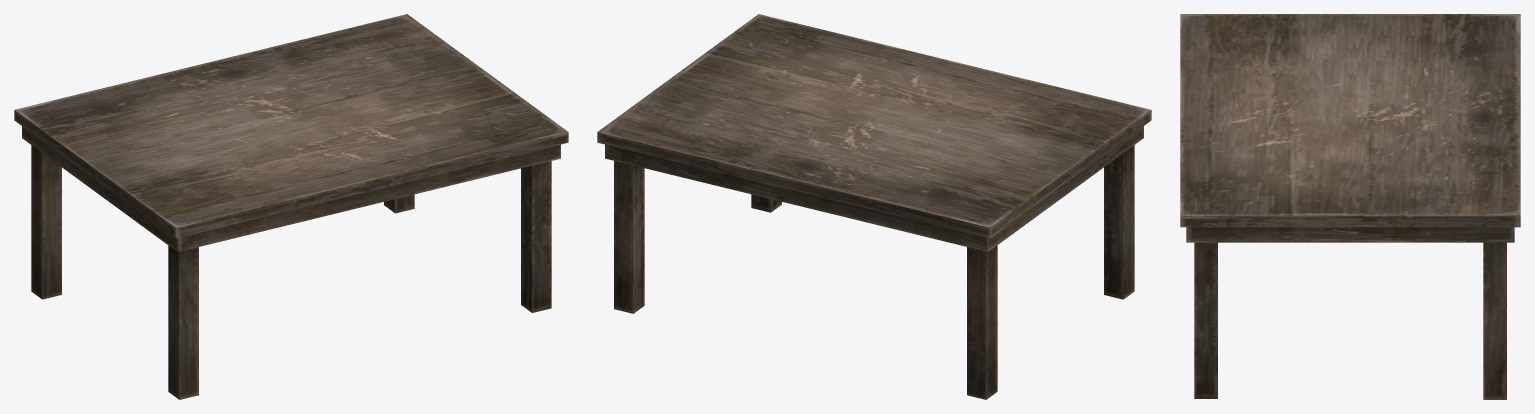
The model's file is Table_2.fbx.
3 views of the same model, side by side, from view 1: azimuth 30°, elevation 25°; view 2: azimuth 150°, elevation 25°; view 3: azimuth 270°, elevation 25° (orthographic). The views are drawn at different scales.
Visible parts, largest first — view 1: Table_2; view 2: Table_2; view 3: Table_2.
Part boxes in pixels (x1,y1,x2,y2): Table_2: (14, 14, 568, 399); Table_2: (597, 14, 1151, 399); Table_2: (1180, 14, 1520, 399).
Size of the model in its own units: 184 by 80.12 by 131.
